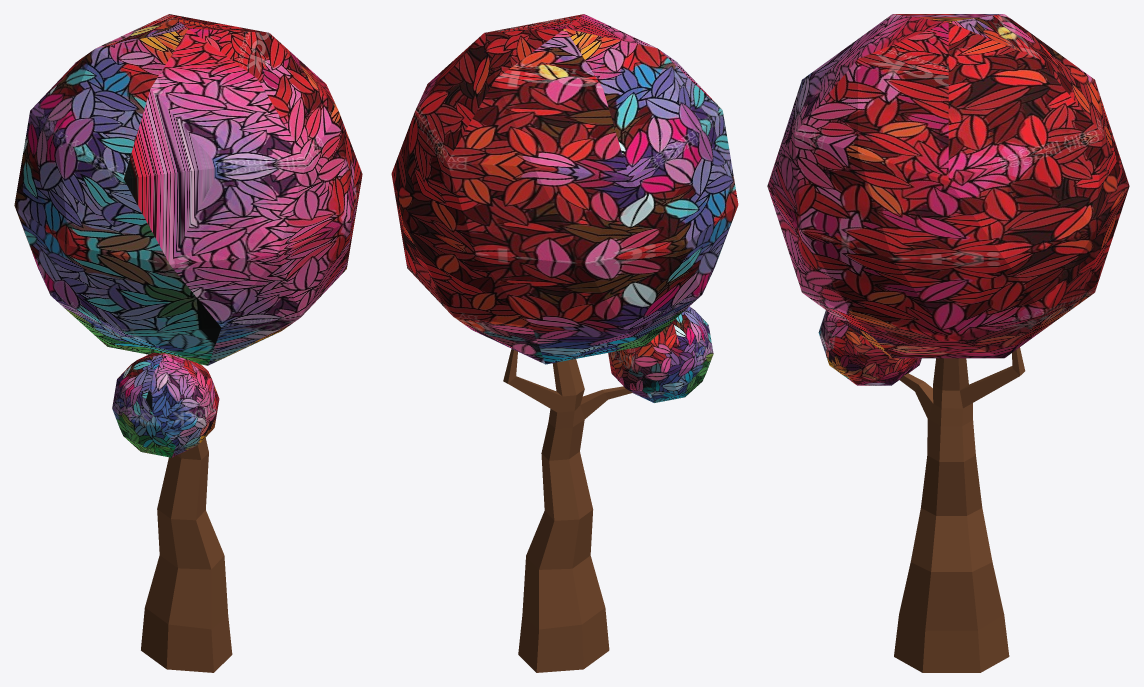
Rendered from varikaspuu.glb.
3 renders of one model, left to right at view 1: azimuth 30°, elevation 25°; view 2: azimuth 150°, elevation 25°; view 3: azimuth 270°, elevation 25°, orthographic. The views are drawn at different scales.
Parts seen in each view (by area): view 1: Cube; view 2: Cube; view 3: Cube.
Part boxes in pixels (box(x1,y1,x2,y2)): Cube: box(14, 14, 362, 672); Cube: box(391, 14, 738, 672); Cube: box(767, 14, 1129, 672).
Bounding box in the file's own units: 32.81 × 66.78 × 34.5.
3 materials, 1 textured.
